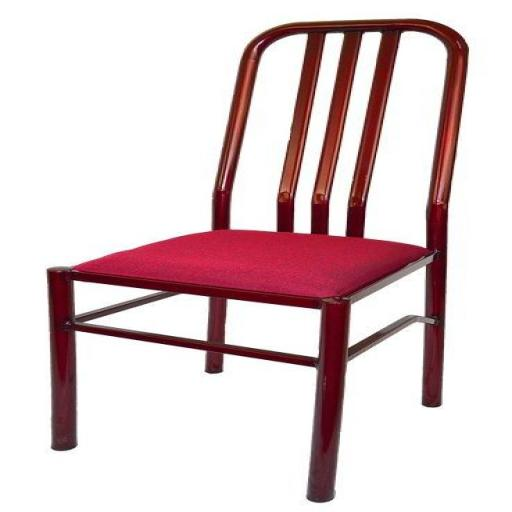bus: (49, 20, 467, 501)
